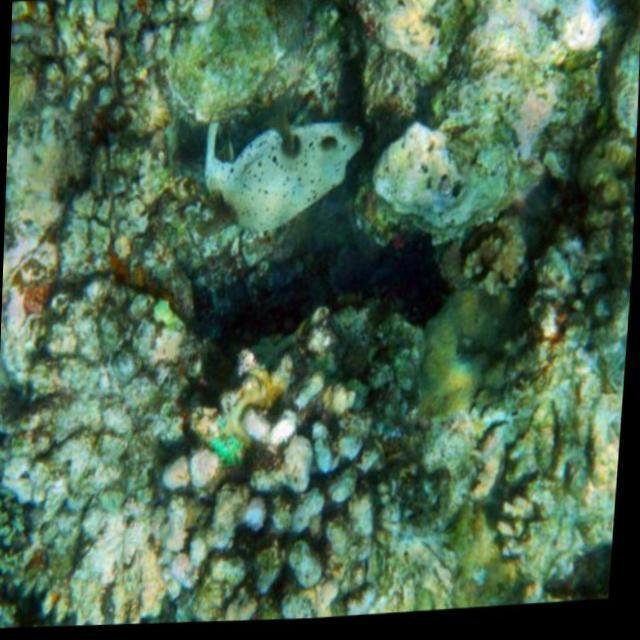Dead Coral: (146, 292, 469, 637), (441, 143, 640, 596), (6, 0, 207, 136), (0, 463, 39, 580)
